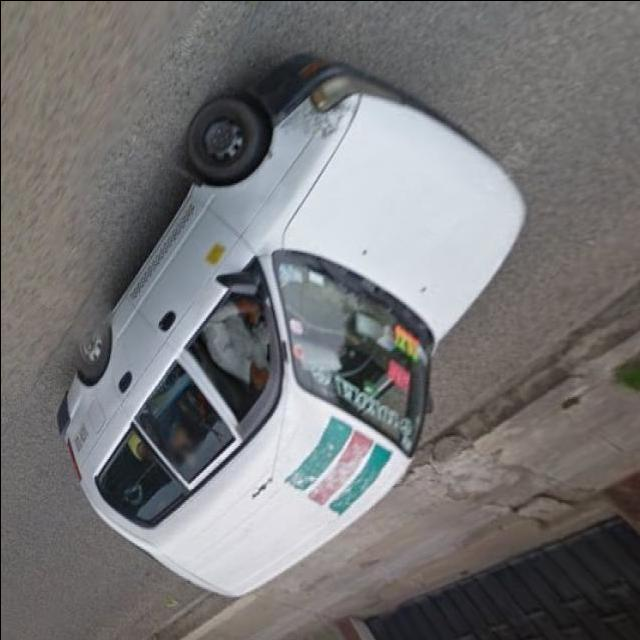car: (51, 59, 520, 589)
